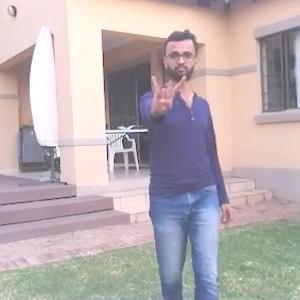takeoff-hand: (144, 68, 190, 120)
